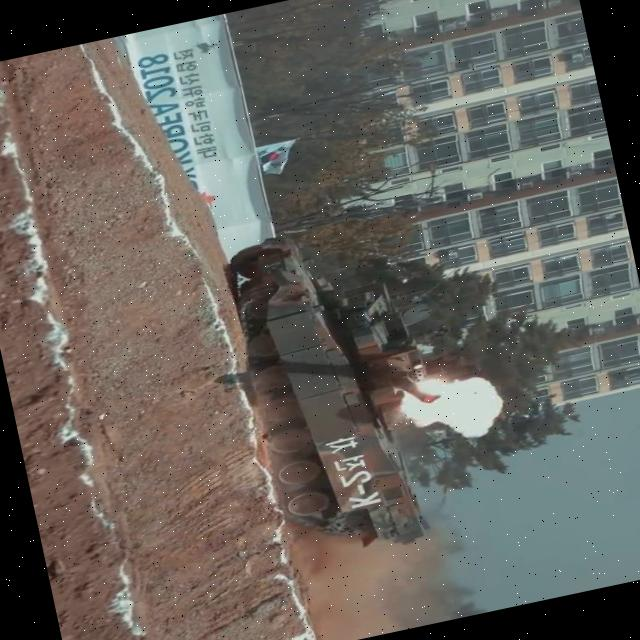korea tank: (215, 201, 509, 574)
